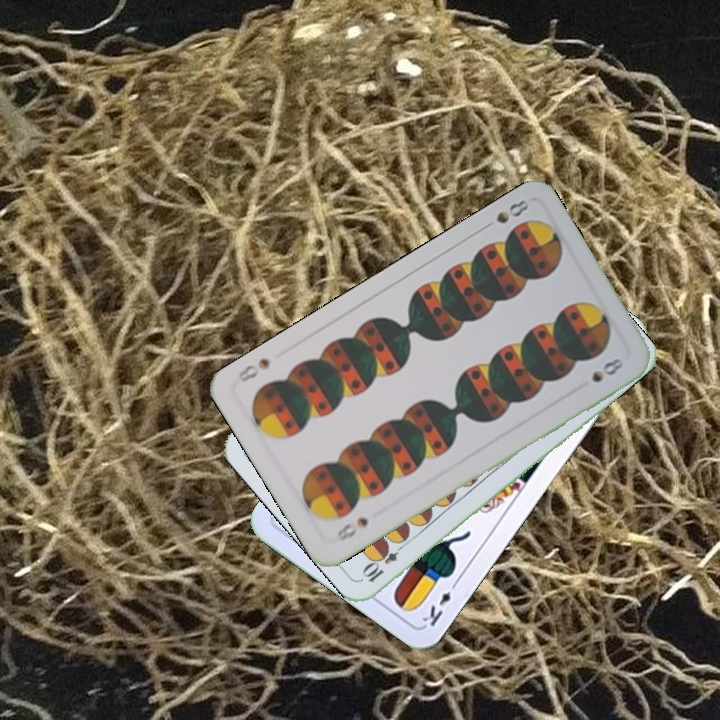E10: (359, 537, 409, 585)
EK: (418, 576, 462, 629)
S8: (477, 195, 532, 233), (333, 513, 371, 544)
